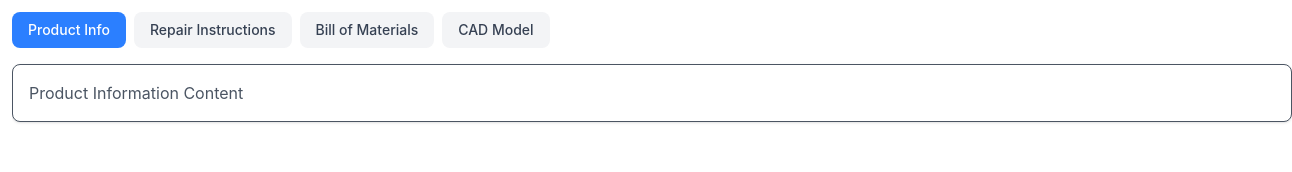
Test: Tabs Component › renders Repair Instructions when clicked
This screenshot has width=1292, height=172.
What coordinates should you click on to do the following:
click the button "Repair Instructions"
I would click on:
 (213, 30)
Its box is [134,12,292,48].
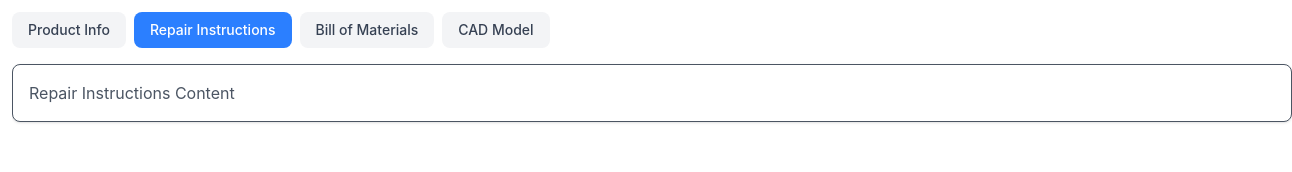
Check: the text "Repair Instructions Content" is shown, box [29,83,235,103]
